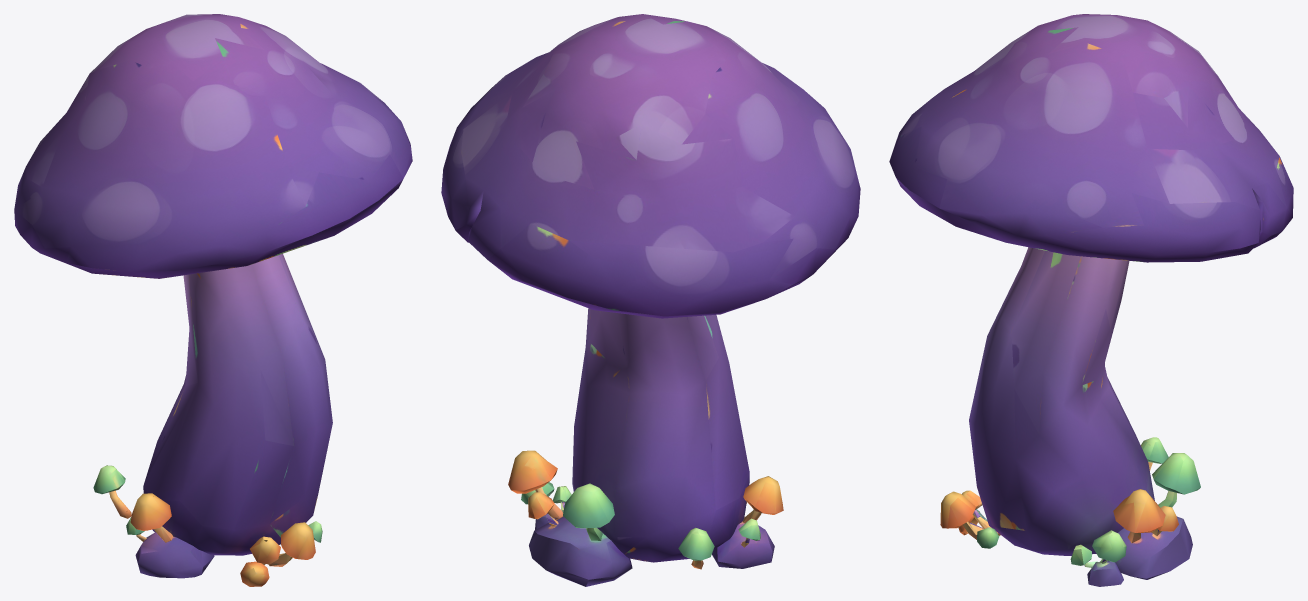
Rendered from L9_MushroomLamp_LOD2.fbx.
The picture shows the model from 3 angles, left to right: view 1: azimuth 30°, elevation 25°; view 2: azimuth 150°, elevation 25°; view 3: azimuth 270°, elevation 25°; orthographic projection. The views are drawn at different scales.
Visible parts, largest first — view 1: L9_MushroomLamp_LOD2; view 2: L9_MushroomLamp_LOD2; view 3: L9_MushroomLamp_LOD2.
Boxes of the visible parts, x1,y1,x2,y2 form: L9_MushroomLamp_LOD2: (14,14,412,586); L9_MushroomLamp_LOD2: (441,14,860,586); L9_MushroomLamp_LOD2: (889,14,1293,586).
Size of the model in its own units: 1.71 by 2.4 by 1.71.
Materials: 1 (1 with a texture image).
